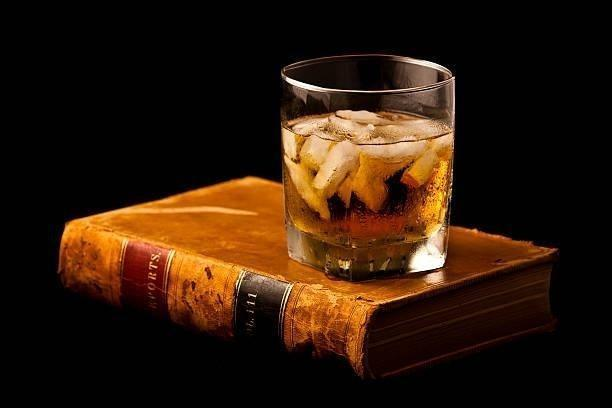glass-normal: (277, 52, 458, 281)
